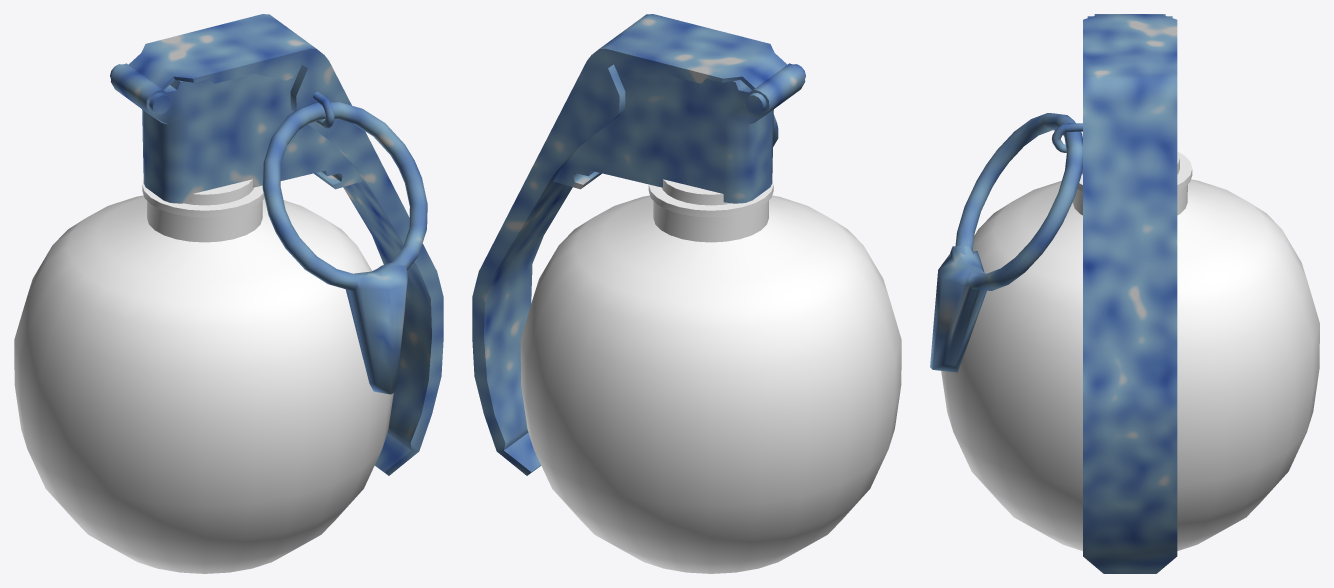
The model's file is GRANADAFINAL.fbx.
3 renders of one model, left to right at view 1: azimuth 30°, elevation 25°; view 2: azimuth 150°, elevation 25°; view 3: azimuth 270°, elevation 25°, orthographic.
Visible parts, largest first — view 1: grenade_1.001; view 2: grenade_1.001; view 3: grenade_1.001.
Boxes of the visible parts, box(x1,y1,x2,y2) form: grenade_1.001: box(14, 14, 443, 573); grenade_1.001: box(472, 14, 901, 573); grenade_1.001: box(930, 14, 1319, 573).
Bounding box in the file's own units: 13.49 × 17.04 × 12.03.
Materials: 2 (2 with a texture image).
